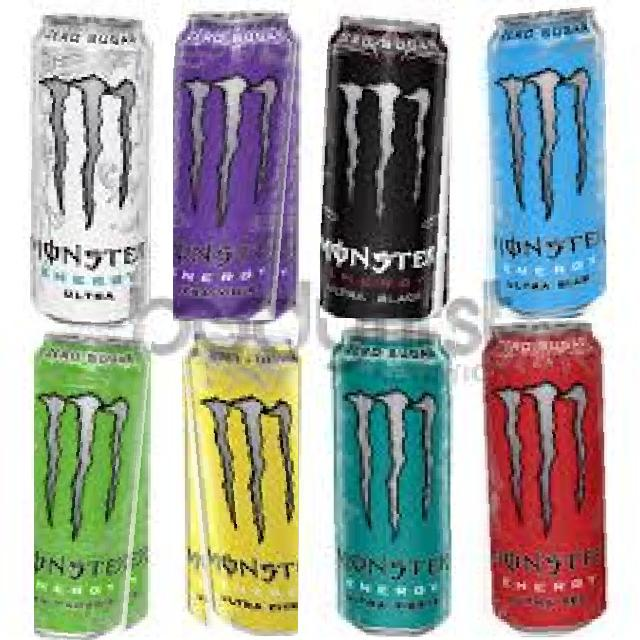Cans: (471, 318, 612, 638), (320, 0, 458, 318), (173, 0, 301, 321), (327, 322, 456, 638), (28, 0, 153, 324), (481, 3, 607, 322), (34, 318, 153, 640), (180, 324, 298, 636)
